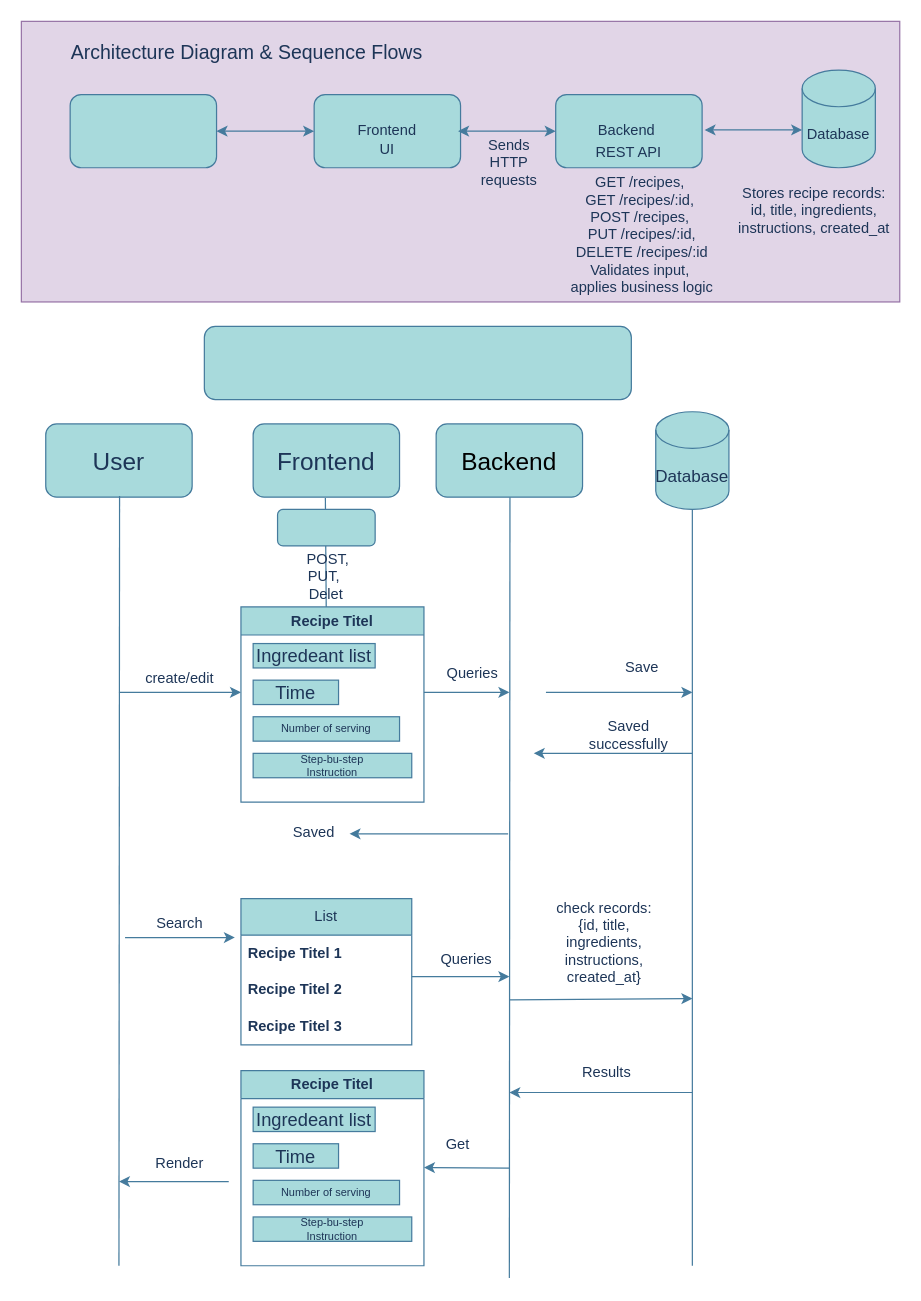
The diagram is 921 pixels wide and 1301 high, and some of its shapes have lost their labels. Here are the shapes that lost their labels. From the top down, the centre of each, then its label:
point 143,130: User (browser / mobile app)
point 417,362: Sequence diagrams
point 325,527: HTTP Requests
